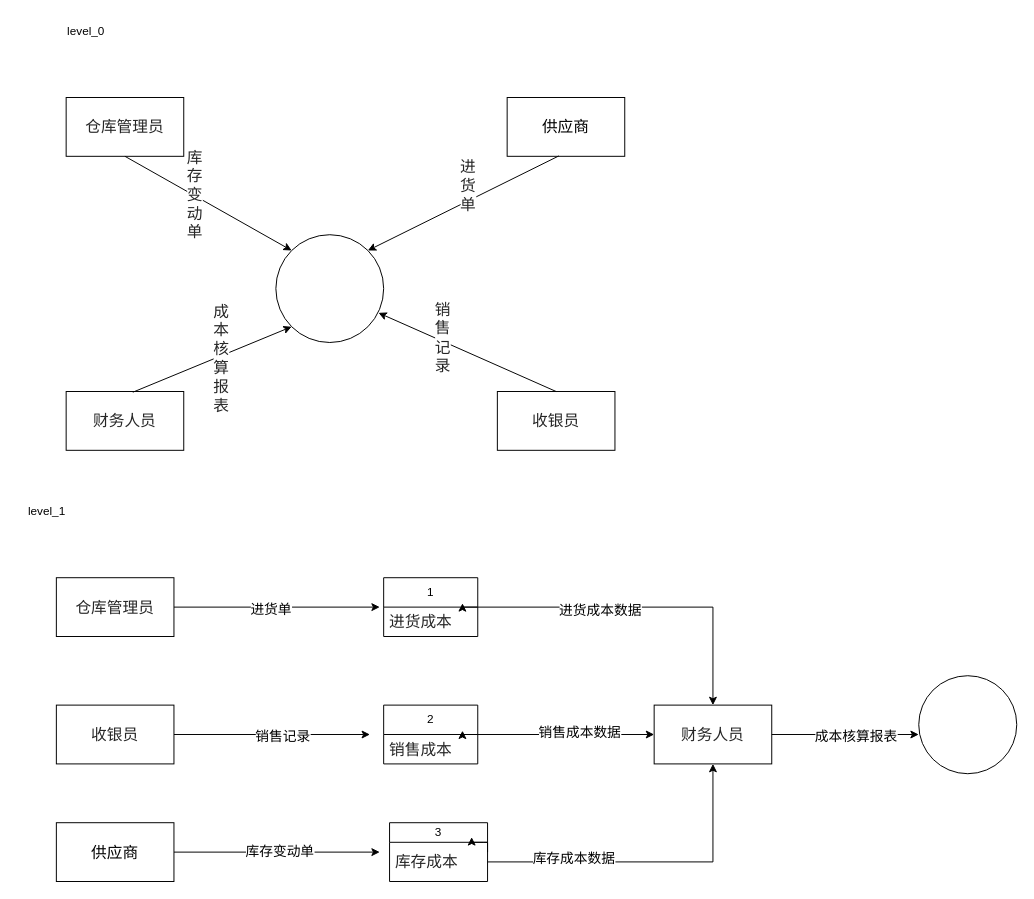
The diagram is 1034 pixels wide and 899 high, and some of its shapes have lost their labels. The centre of each missing label's shape, as x and y in pixels:
"成本核算" belongs at point 329,288.
"成本汇总" belongs at point 967,724.
